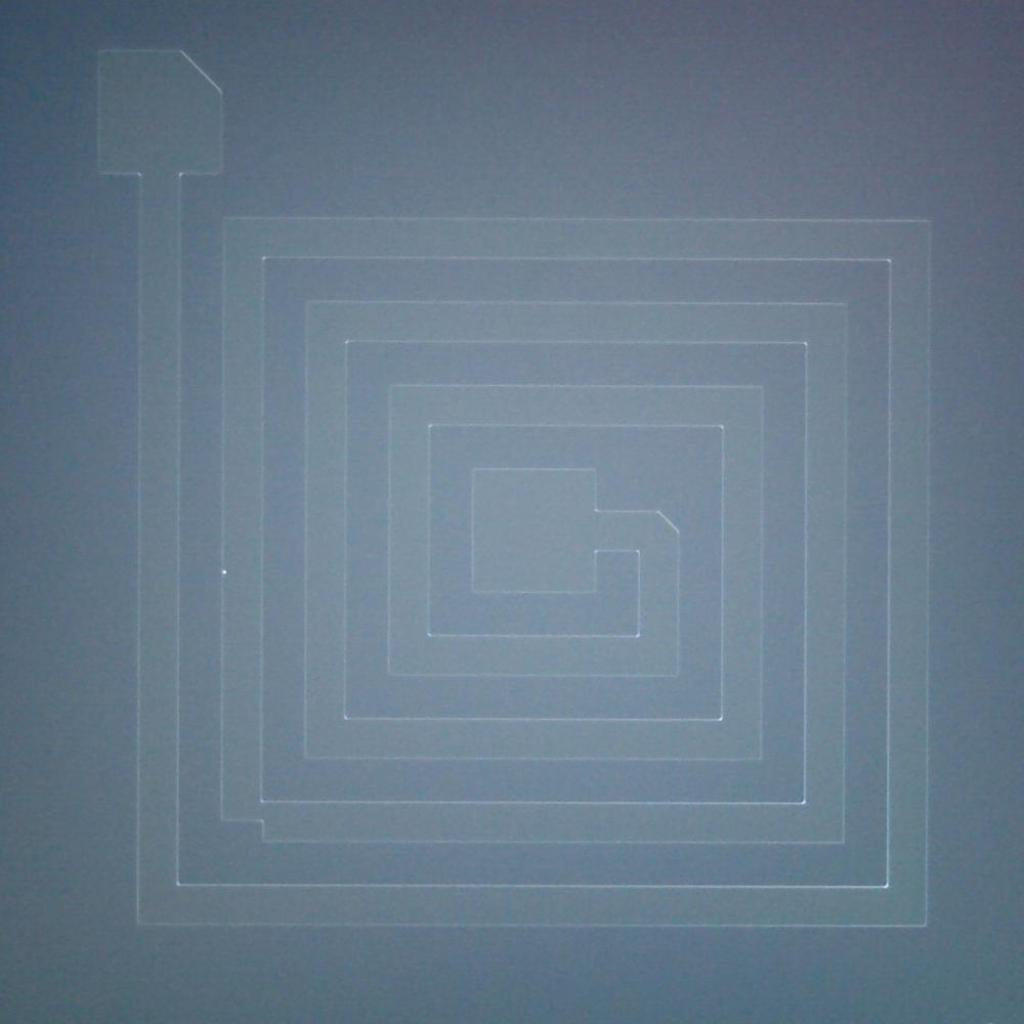dot: (223, 570, 227, 574)
